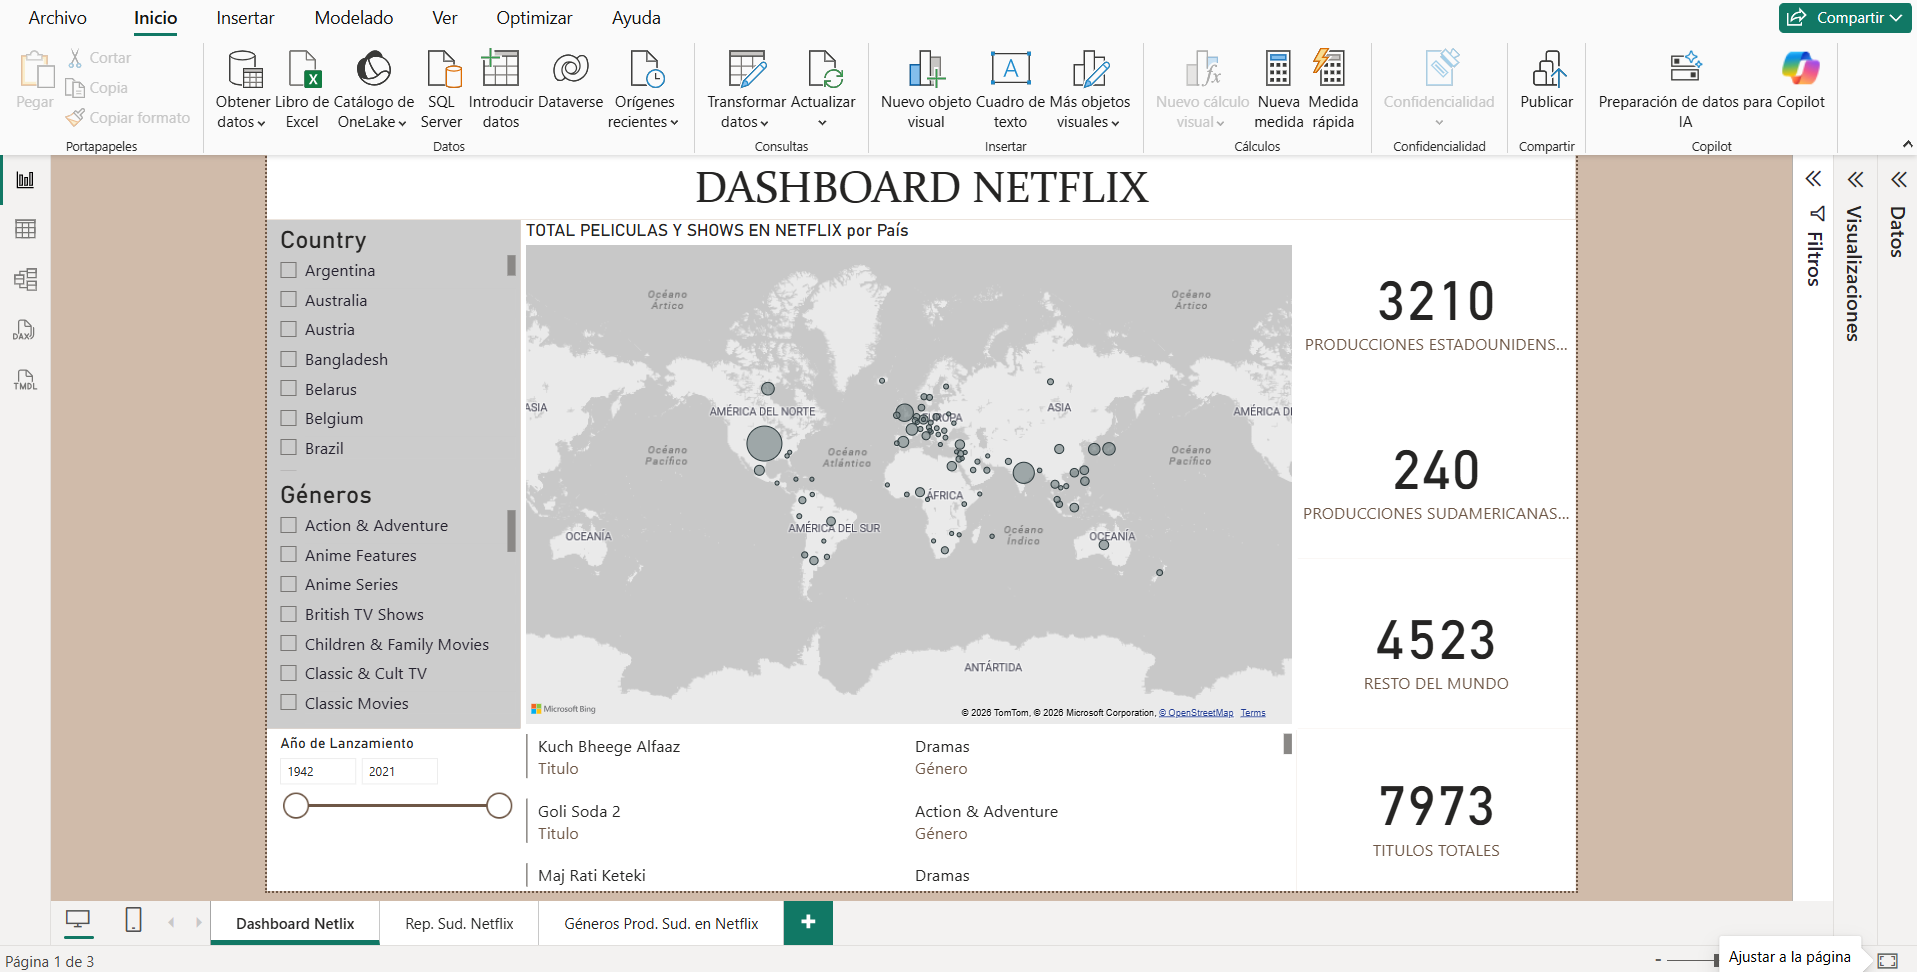

Layout of this report page (visuals, bound fields, positions):
{"tool":"powerbi","page":{"name":"Dashboard Netlix","canvas":[1280,720],"ordinal":0},"visuals":[{"type":"slicer","fields":{"Values":["netflix_titles.country"]},"box":[0,63.1,248.4,249.7],"z":0},{"type":"textbox","box":[0,0,1280.3,63.1],"z":1000},{"type":"slicer","fields":{"Values":["netflix_titles.listed_in."]},"box":[0,312.9,248.4,248.4],"z":2000},{"type":"map","fields":{"Category":["netflix_titles.country"],"Size":["netflix_titles.TOTAL PELICULAS Y SHOWS EN NETFLIX"]},"box":[248.4,63.1,758.8,498.1],"z":3000},{"type":"card","fields":{"Values":["netflix_titles.PRODUCCIONES ESTADOUNIDENSES EN NETFLIX"]},"box":[1007.2,63.1,273.1,166],"z":4000},{"type":"card","fields":{"Values":["netflix_titles.PRODUCCIONES SUDAMERICANAS EN NETFLIX"]},"box":[1007.2,229.2,273.1,166],"z":5000},{"type":"card","fields":{"Values":["netflix_titles.RESTO DEL MUNDO"]},"box":[1007.2,395.2,273.1,166],"z":6000},{"type":"slicer","fields":{"Values":["netflix_titles.release_year"]},"box":[0,561.2,248.4,159.2],"z":7000},{"type":"card","fields":{"Values":["CountNonNull(netflix_titles.title)"]},"box":[1007.2,561.2,273.1,159.2],"z":8000},{"type":"multiRowCard","fields":{"Values":["netflix_titles.title","netflix_titles.listed_in."]},"box":[248,561,759,159],"z":9000}]}

Visuals, with their boxes on the page's 1280x720 design canvas (x1, y1, x2, y2). These are canvas units, not pixel positions in the 1917x972 screenshot, which may show the page scaled, cropped or inside an application window:
slicer - netflix_titles.country: x1=0 y1=63 x2=248 y2=313
textbox: x1=0 y1=0 x2=1280 y2=63
slicer - netflix_titles.listed_in.: x1=0 y1=313 x2=248 y2=561
map - netflix_titles.country x netflix_titles.TOTAL PELICULAS Y SHOWS EN NETFLIX: x1=248 y1=63 x2=1007 y2=561
card - netflix_titles.PRODUCCIONES ESTADOUNIDENSES EN NETFLIX: x1=1007 y1=63 x2=1280 y2=229
card - netflix_titles.PRODUCCIONES SUDAMERICANAS EN NETFLIX: x1=1007 y1=229 x2=1280 y2=395
card - netflix_titles.RESTO DEL MUNDO: x1=1007 y1=395 x2=1280 y2=561
slicer - netflix_titles.release_year: x1=0 y1=561 x2=248 y2=720
card - CountNonNull(netflix_titles.title): x1=1007 y1=561 x2=1280 y2=720
multiRowCard - netflix_titles.title x netflix_titles.listed_in.: x1=248 y1=561 x2=1007 y2=720
